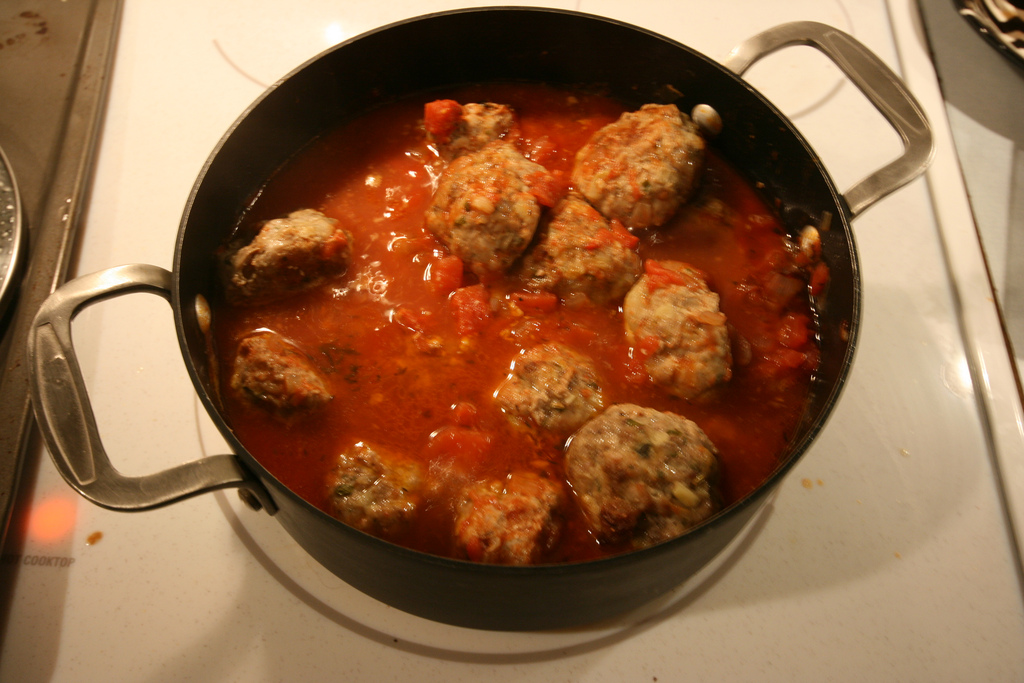meatballs: (216, 115, 816, 564)
